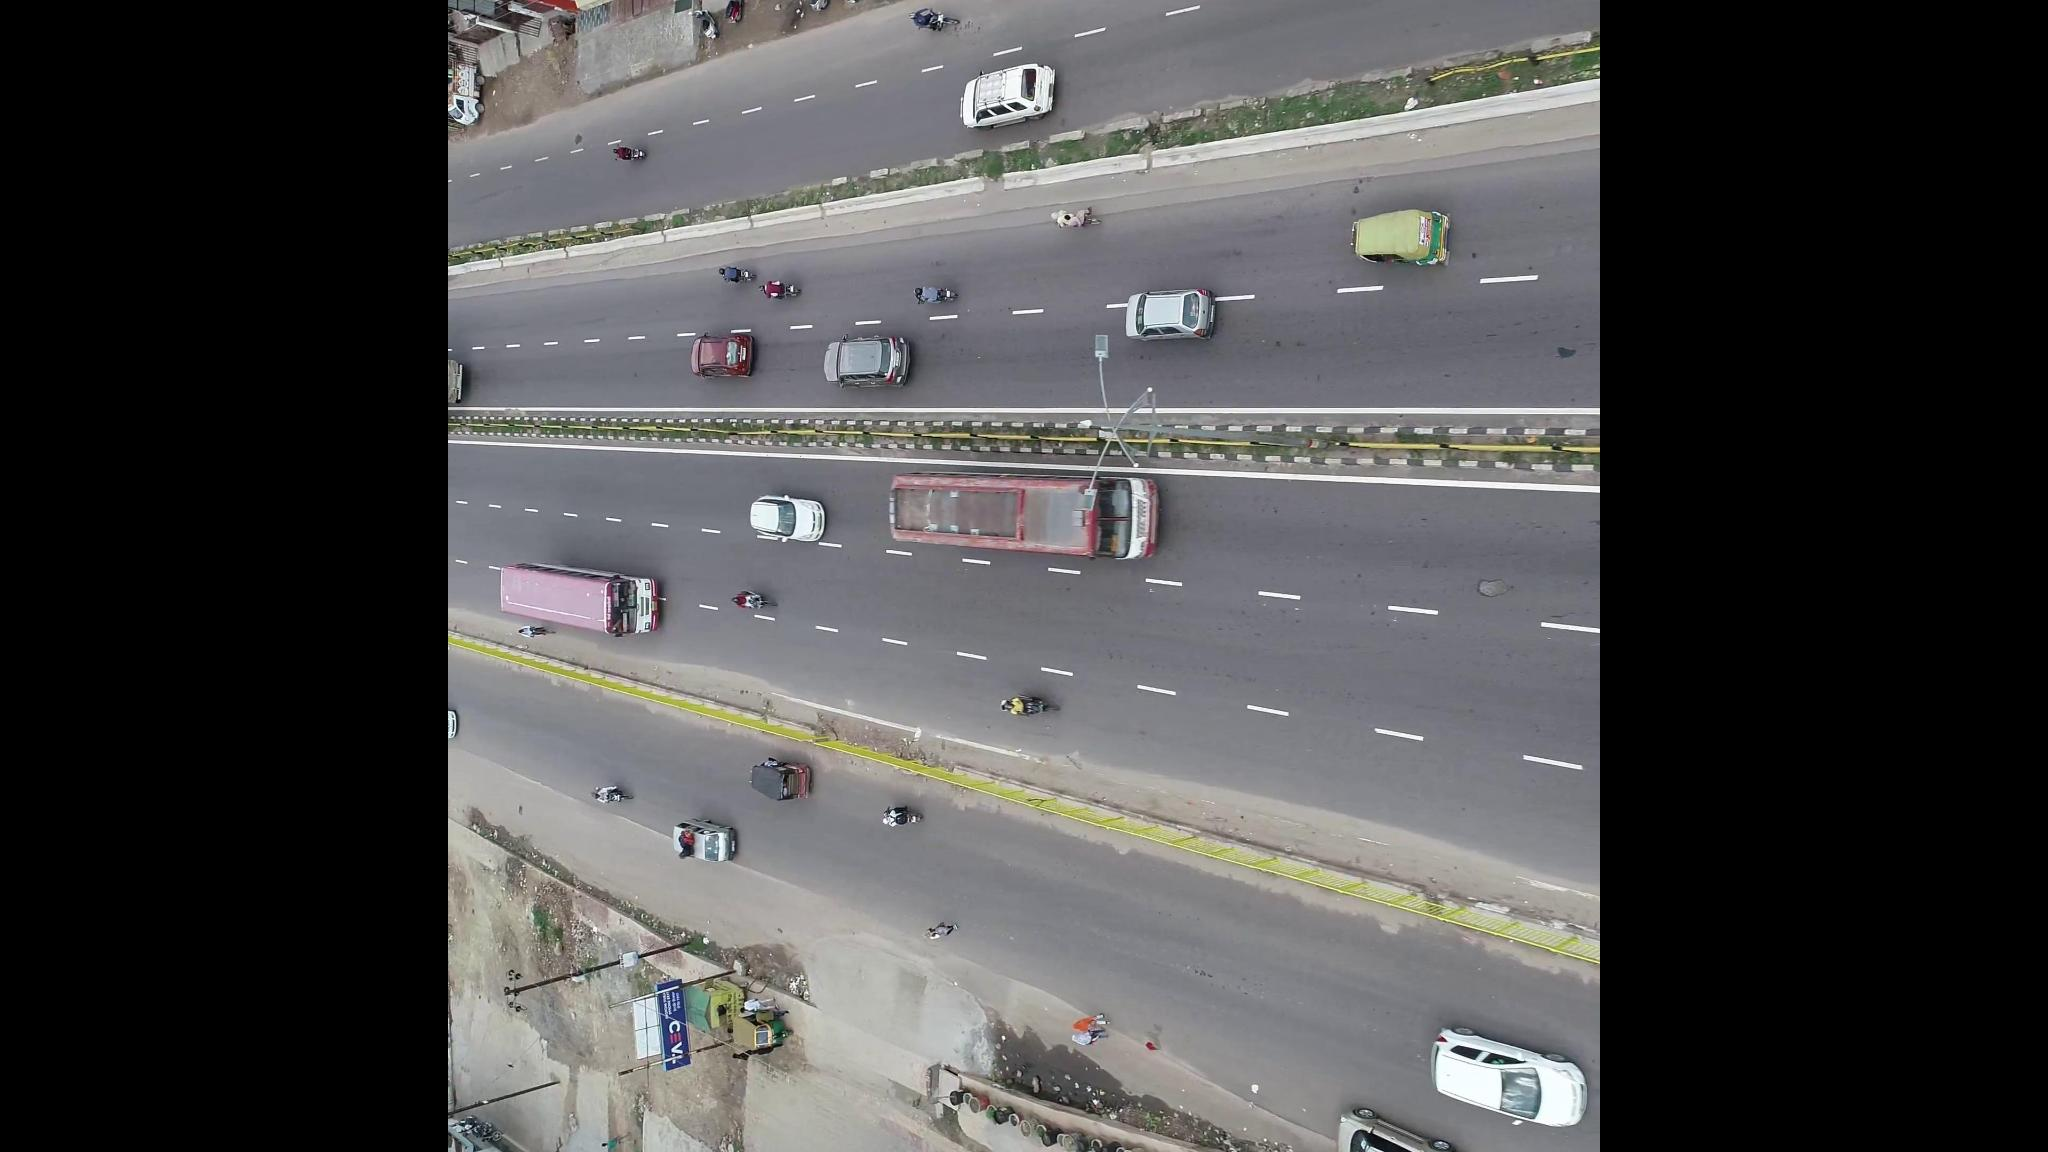Potholes: (1460, 554, 1535, 616)
